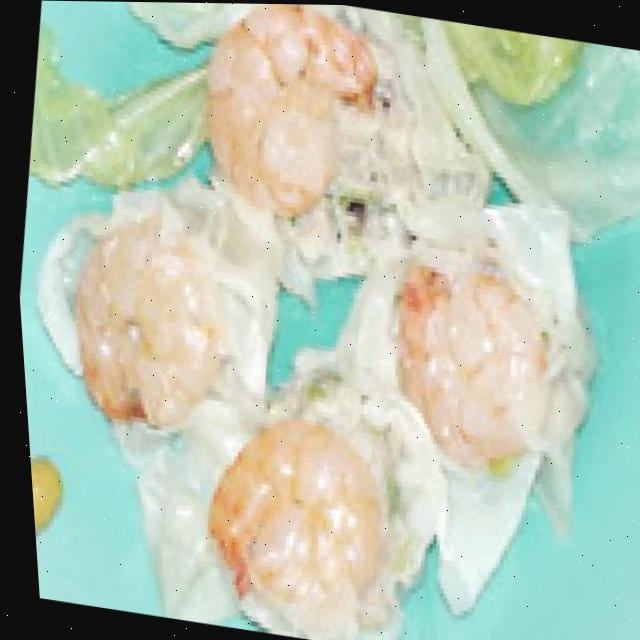带馅早点: (7, 0, 630, 640)
